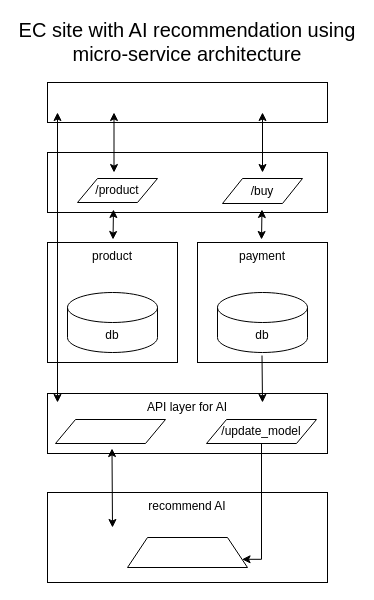
The diagram is 374 pixels wide and 600 high, and some of its shapes have lost their labels. The shapes that lost their labels are listed below. From the top down, each one's box as (x1, y1, x2, y2) in pixels, then its label:
(46, 82, 328, 122): frontend
(46, 152, 328, 212): API layer for front
(54, 418, 166, 444): /recommend
(126, 536, 248, 568): model
